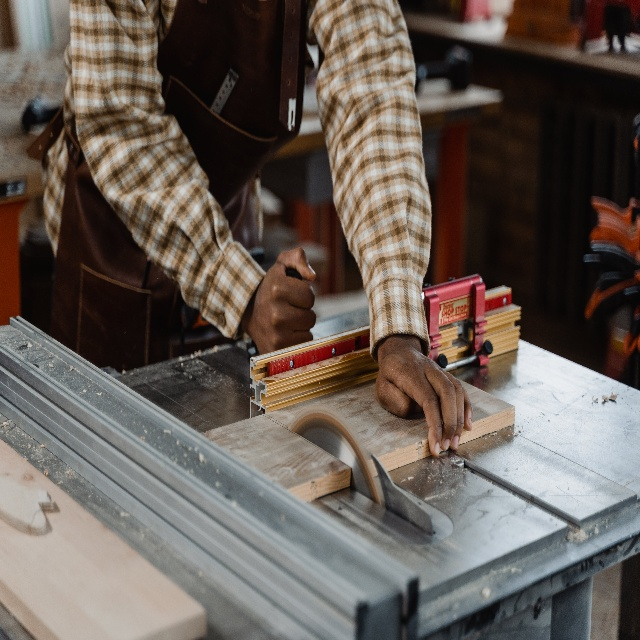Sin_guantes: (375, 346, 473, 457), (251, 247, 316, 355)
